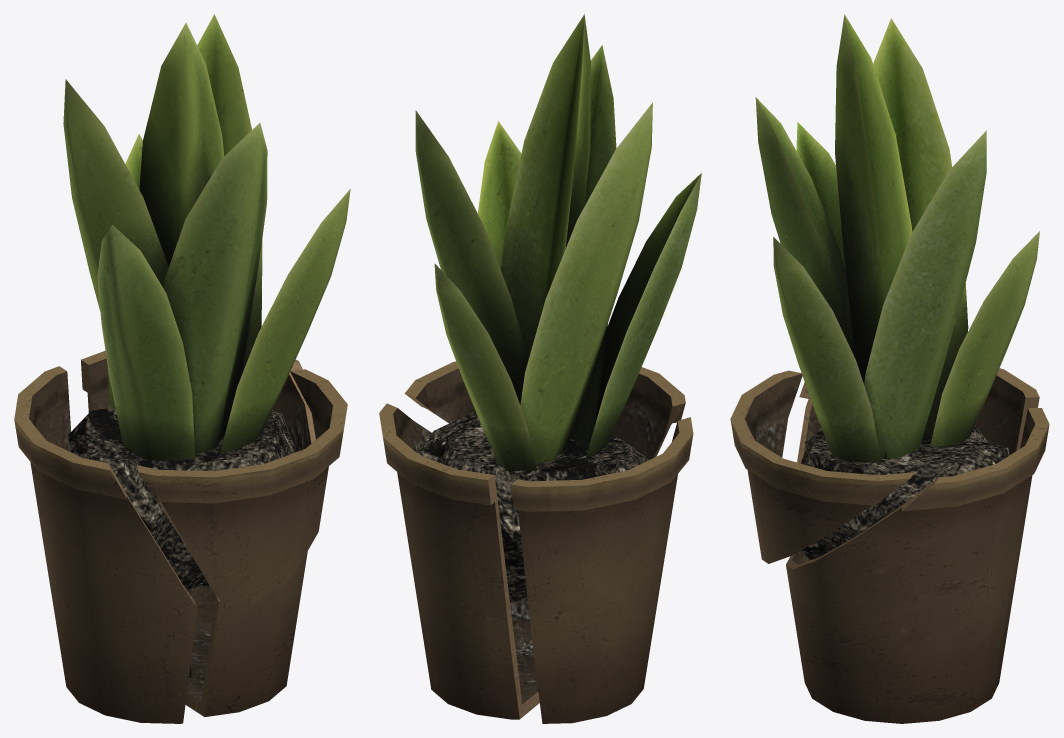
Rendered from Plant01_broken.FBX.
3 views of the same model, side by side, from view 1: azimuth 30°, elevation 25°; view 2: azimuth 150°, elevation 25°; view 3: azimuth 270°, elevation 25° (orthographic). The views are drawn at different scales.
Visible parts, largest first — view 1: Plant01_pt01, Plant01_pt03, Plant01_pt04, Plant01_pt02; view 2: Plant01_pt01, Plant01_pt03, Plant01_pt02, Plant01_pt04; view 3: Plant01_pt01, Plant01_pt02, Plant01_pt04, Plant01_pt03.
Boxes of the visible parts, x1,y1,x2,y2 form: Plant01_pt01: (63, 14, 350, 591); Plant01_pt03: (14, 366, 197, 723); Plant01_pt04: (137, 369, 347, 609); Plant01_pt02: (81, 350, 315, 716); Plant01_pt01: (415, 14, 701, 602); Plant01_pt03: (511, 417, 693, 723); Plant01_pt02: (379, 403, 539, 719); Plant01_pt04: (405, 361, 685, 459); Plant01_pt01: (755, 14, 1039, 560); Plant01_pt02: (786, 408, 1049, 723); Plant01_pt04: (730, 370, 914, 563); Plant01_pt03: (797, 368, 1039, 563).
Bounding box in the file's own units: 52.83 × 121 × 53.4.
